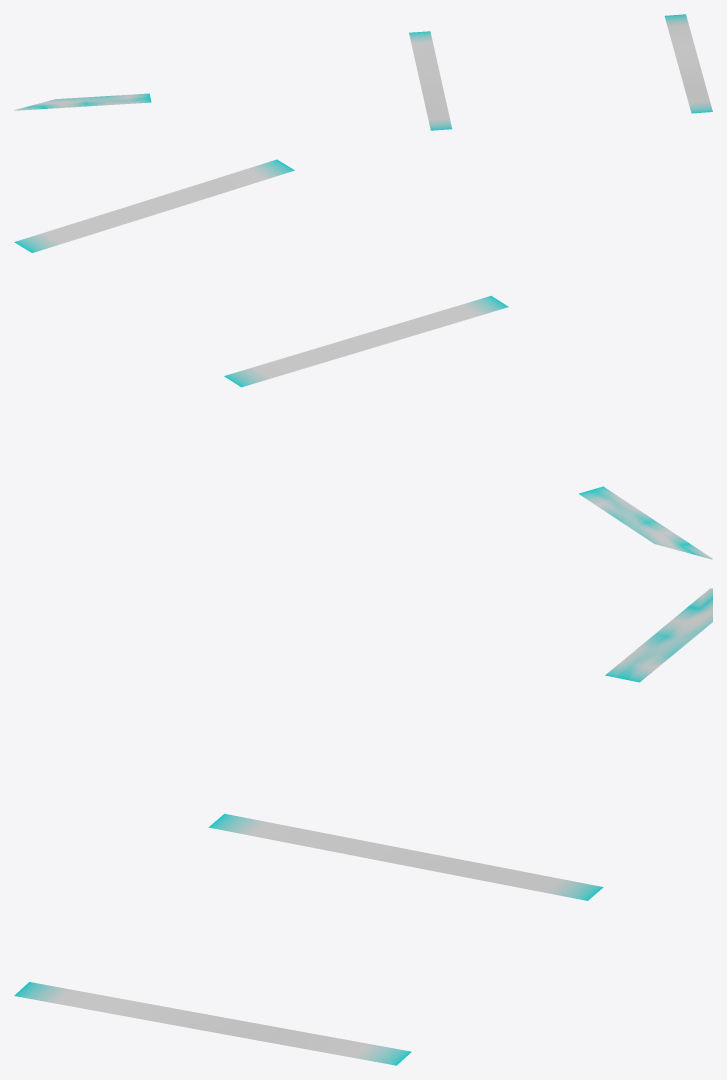
The picture shows the model from 3 angles, top to bottom: view 1: azimuth 30°, elevation 25°; view 2: azimuth 150°, elevation 25°; view 3: azimuth 270°, elevation 25°; orthographic projection. The views are drawn at different scales.
Parts seen in each view (by area): view 1: SpaceCenter_Long3_GenerateRoad_Asphalt_PCGMesh_Decal_Mesh_x1; view 2: SpaceCenter_Long3_GenerateRoad_Asphalt_PCGMesh_Decal_Mesh_x1; view 3: SpaceCenter_Long3_GenerateRoad_Asphalt_PCGMesh_Decal_Mesh_x1.
Part boxes in pixels (x1,y1,x2,y2): SpaceCenter_Long3_GenerateRoad_Asphalt_PCGMesh_Decal_Mesh_x1: [14, 14, 712, 130]; SpaceCenter_Long3_GenerateRoad_Asphalt_PCGMesh_Decal_Mesh_x1: [14, 159, 712, 559]; SpaceCenter_Long3_GenerateRoad_Asphalt_PCGMesh_Decal_Mesh_x1: [14, 588, 712, 1065].
Size of the model in its own units: 650 by 1122 by 33.53.
